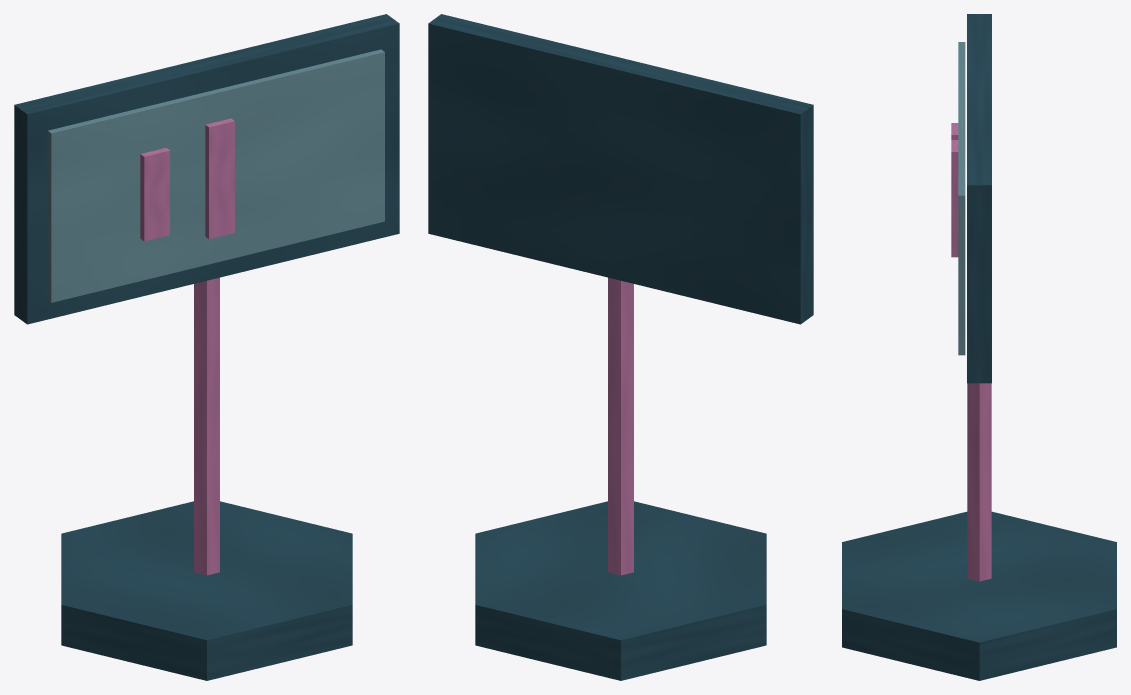
The model's file is atlas100-s061-a11.lod1.glb.
3 views of the same model, side by side, from view 1: azimuth 30°, elevation 25°; view 2: azimuth 150°, elevation 25°; view 3: azimuth 270°, elevation 25° (orthographic). The views are drawn at different scales.
Visible parts, largest first — view 1: atlas100-s061-a11:part-003, atlas100-s061-a11:part-000, atlas100-s061-a11:part-002, atlas100-s061-a11:part-001, atlas100-s061-a11:part-005, atlas100-s061-a11:part-004; view 2: atlas100-s061-a11:part-002, atlas100-s061-a11:part-000, atlas100-s061-a11:part-001; view 3: atlas100-s061-a11:part-000, atlas100-s061-a11:part-002, atlas100-s061-a11:part-001, atlas100-s061-a11:part-003, atlas100-s061-a11:part-005.
Part boxes in pixels (x1=…): atlas100-s061-a11:part-003: x1=47, y1=49, x2=384, y2=302; atlas100-s061-a11:part-000: x1=61, y1=501, x2=352, y2=680; atlas100-s061-a11:part-002: x1=14, y1=14, x2=399, y2=324; atlas100-s061-a11:part-001: x1=194, y1=277, x2=219, y2=575; atlas100-s061-a11:part-005: x1=205, y1=118, x2=234, y2=239; atlas100-s061-a11:part-004: x1=140, y1=148, x2=169, y2=241; atlas100-s061-a11:part-002: x1=428, y1=14, x2=813, y2=324; atlas100-s061-a11:part-000: x1=475, y1=501, x2=766, y2=680; atlas100-s061-a11:part-001: x1=608, y1=277, x2=633, y2=575; atlas100-s061-a11:part-000: x1=842, y1=511, x2=1116, y2=680; atlas100-s061-a11:part-002: x1=967, y1=14, x2=991, y2=383; atlas100-s061-a11:part-001: x1=967, y1=383, x2=991, y2=581; atlas100-s061-a11:part-003: x1=958, y1=42, x2=965, y2=355; atlas100-s061-a11:part-005: x1=951, y1=140, x2=958, y2=257.
Bounding box in the file's own units: 1.15 × 1.61 × 0.7794.
Materials: 3 (3 with a texture image).
